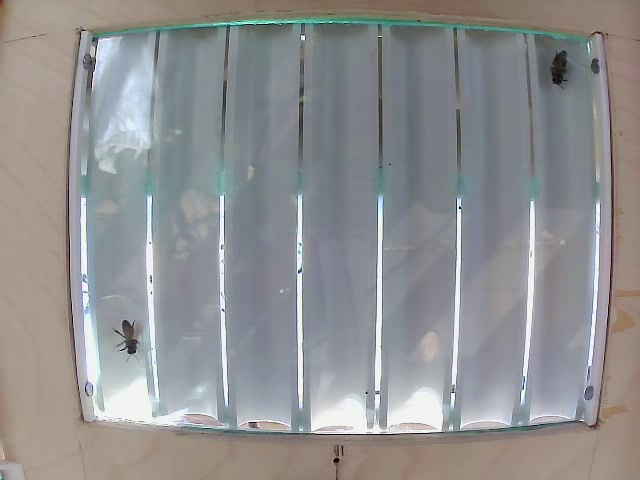bee: (101, 315, 157, 354), (537, 48, 576, 95)
